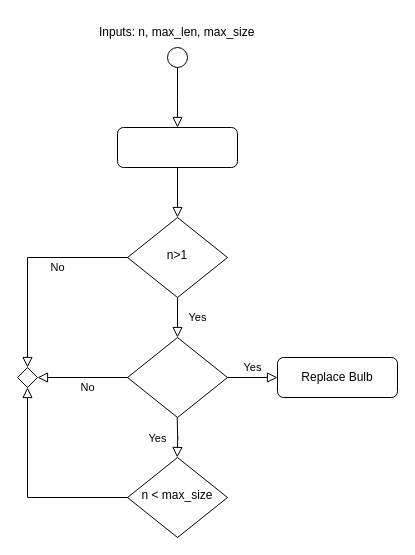
Some shapes in this 415 by 555 pixel diagram are drawn without their labels. Here are the shapes that lost their labels. From the top down, the centre of each, then its label:
the point at 177,147: len = 0
the point at 177,377: len <= max_len
